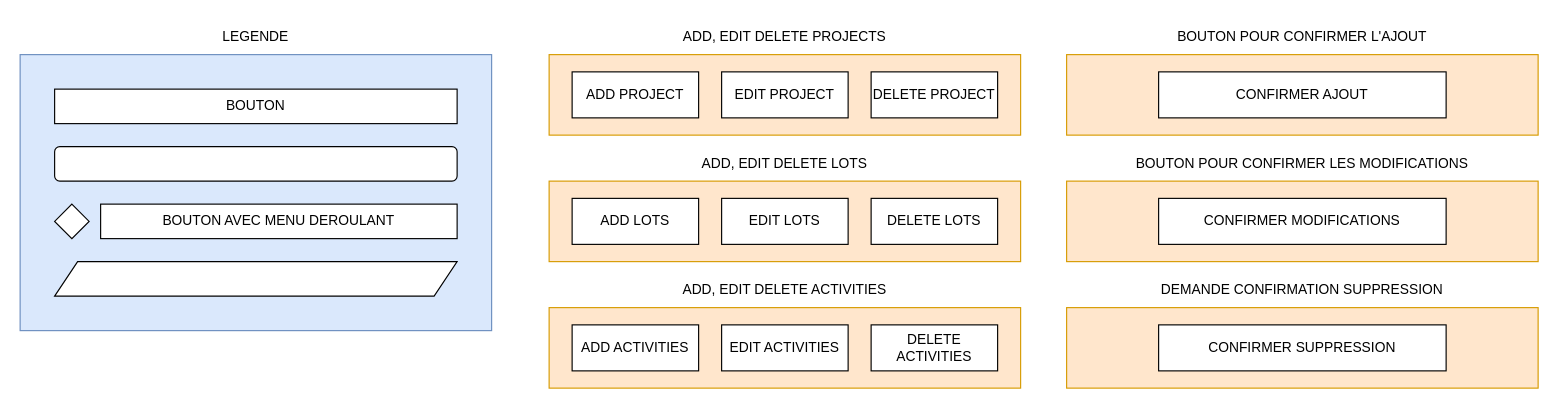
This 1558x408 diagram has some shape labels left out. Here are the shapes that lost their labels. From the top down, the centre of each, then its label:
the point at 255,163: BOUTON AVEC ICONE
the point at 255,278: CHAMP A COMPLETER
